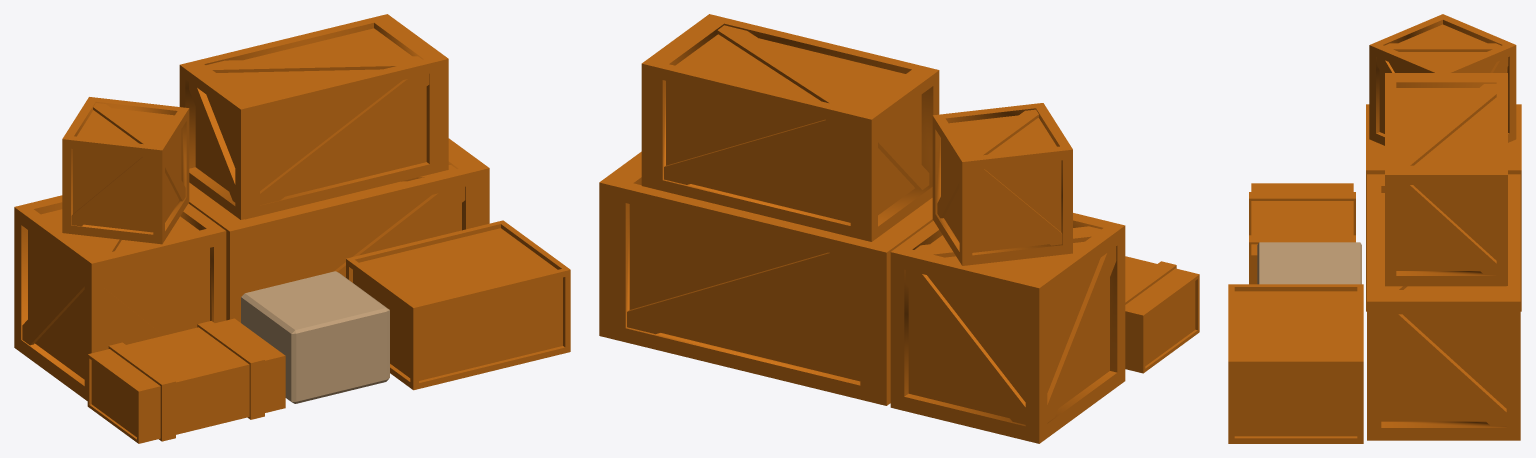
The model's file is Prop_Boxes_I.fbx.
The picture shows the model from 3 angles, left to right: view 1: azimuth 30°, elevation 25°; view 2: azimuth 150°, elevation 25°; view 3: azimuth 270°, elevation 25°; orthographic projection. The views are drawn at different scales.
Visible parts, largest first — view 1: Prop_Boxes_I; view 2: Prop_Boxes_I; view 3: Prop_Boxes_I.
Part boxes in pixels (bbox=[...]): Prop_Boxes_I: bbox=[14, 14, 570, 443]; Prop_Boxes_I: bbox=[599, 14, 1199, 443]; Prop_Boxes_I: bbox=[1228, 14, 1521, 443].
Size of the model in its own units: 126 by 209 by 119.
